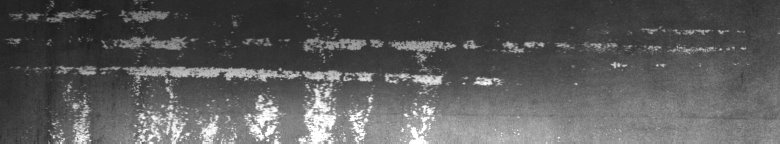kb: (6, 4, 746, 136)
